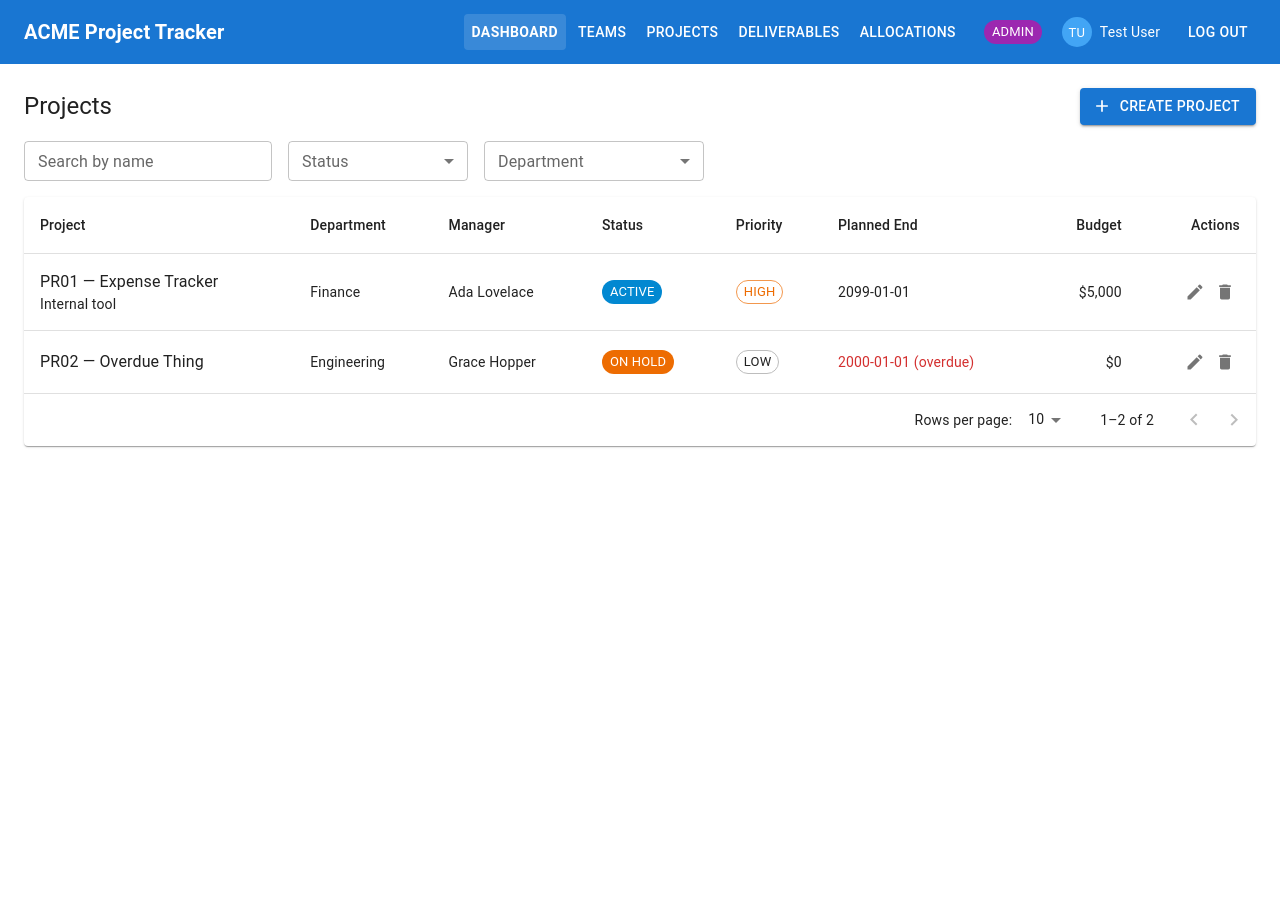
Test case: delete flow › confirms before deleting, then removes the project and shows a snackbar
Check: the text "PR01 — Expense Tracker" is shown, box [40,272,218,290]
Click the 4th button at (1225, 292), box [1210,276,1240,306]
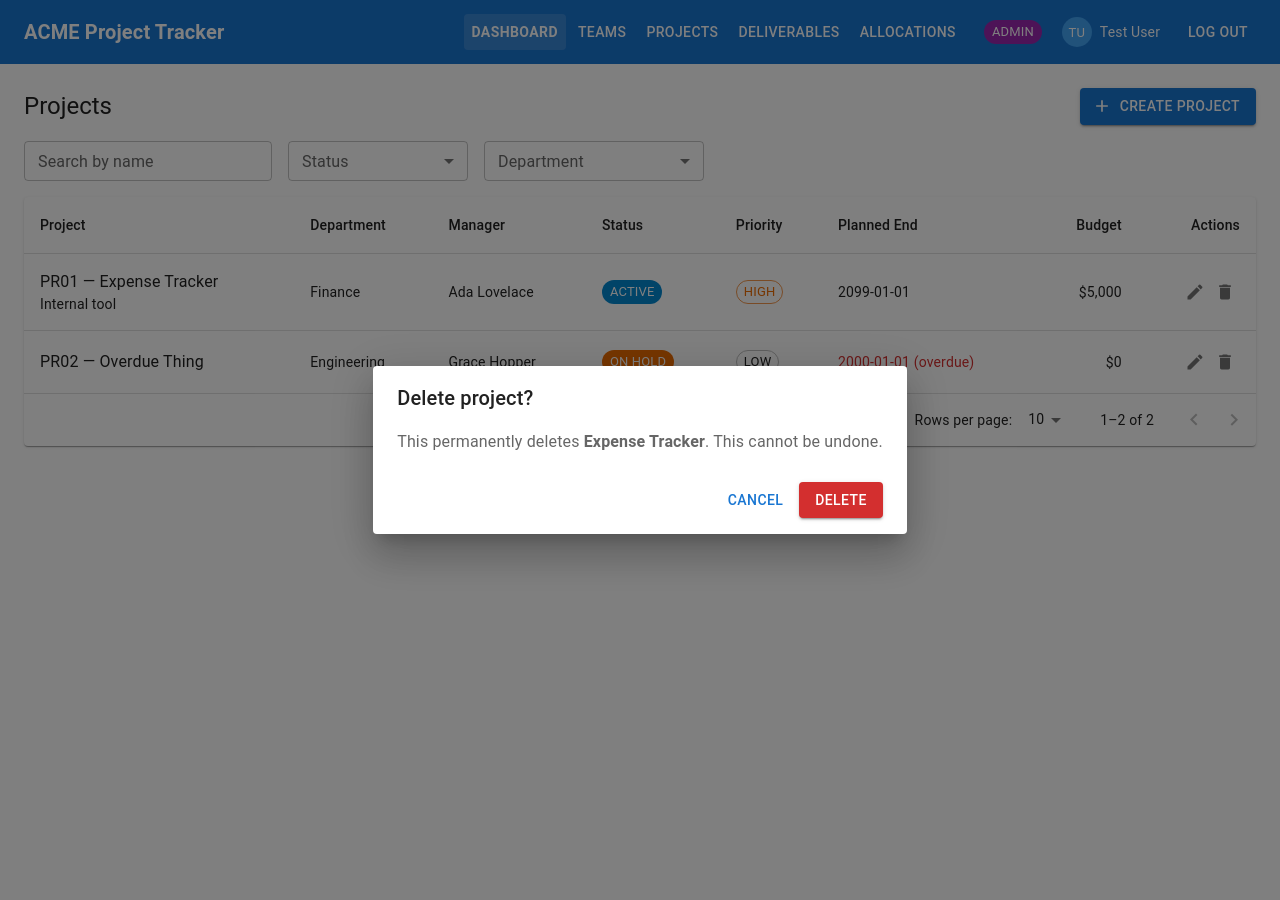
Check: the heading "Delete project?" is shown, box [397,386,533,410]
Click the button "Delete" at (841, 500), box [799,482,883,518]
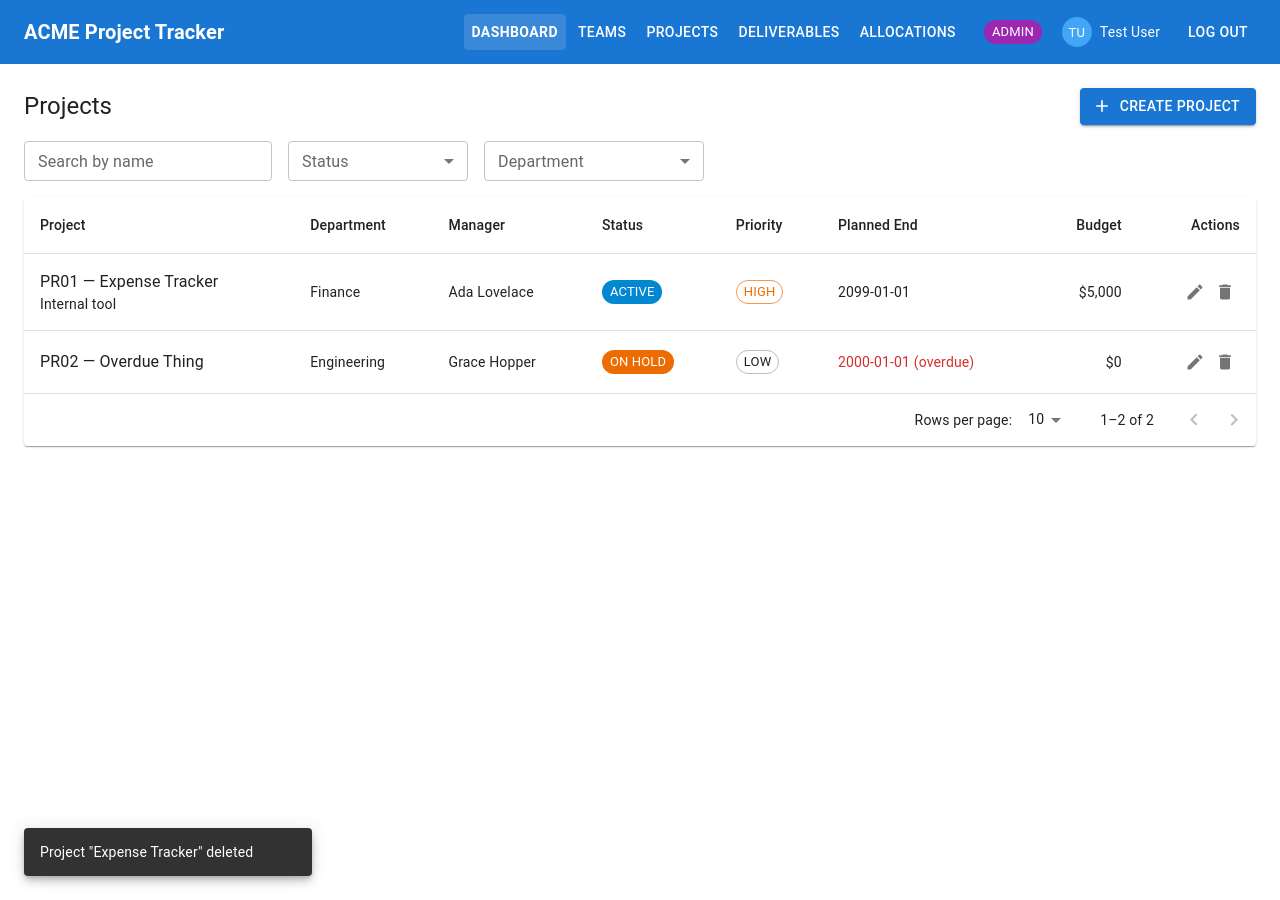
Check: the text "Project \"Expense Tracker\" deleted" is shown, box [40,844,253,860]
